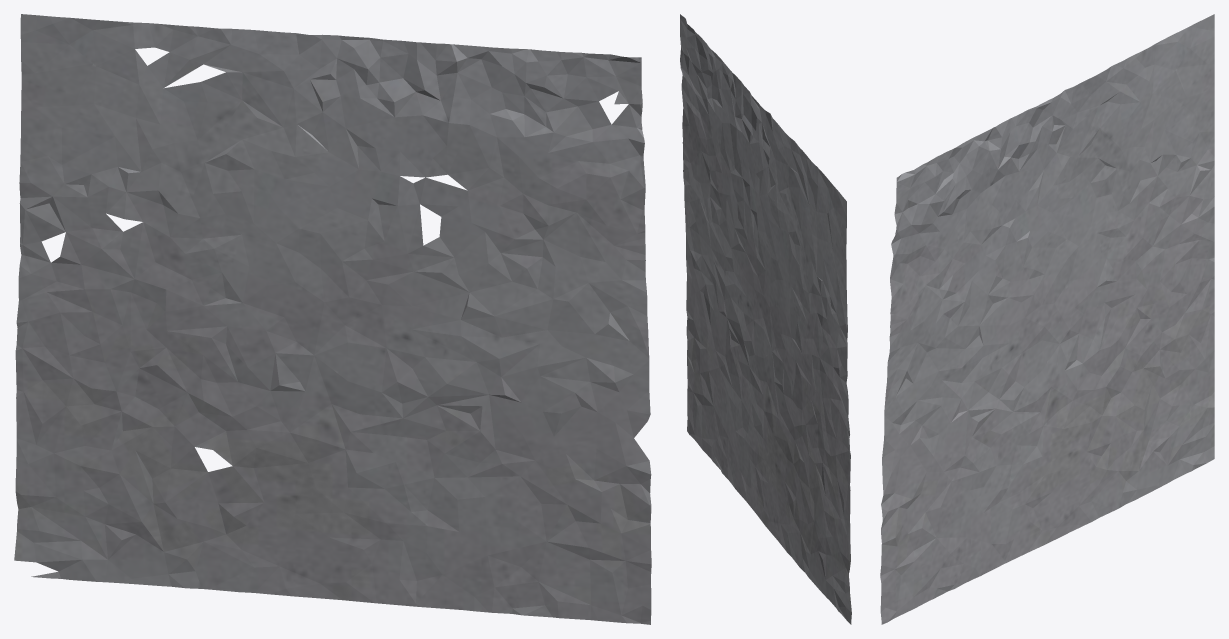
The picture shows the model from 3 angles, left to right: view 1: azimuth 30°, elevation 25°; view 2: azimuth 150°, elevation 25°; view 3: azimuth 270°, elevation 25°; orthographic projection. The views are drawn at different scales.
Bounding box in the file's own units: 0.6685 × 0.8374 × 0.5679.
Materials: 3 (3 with a texture image).
